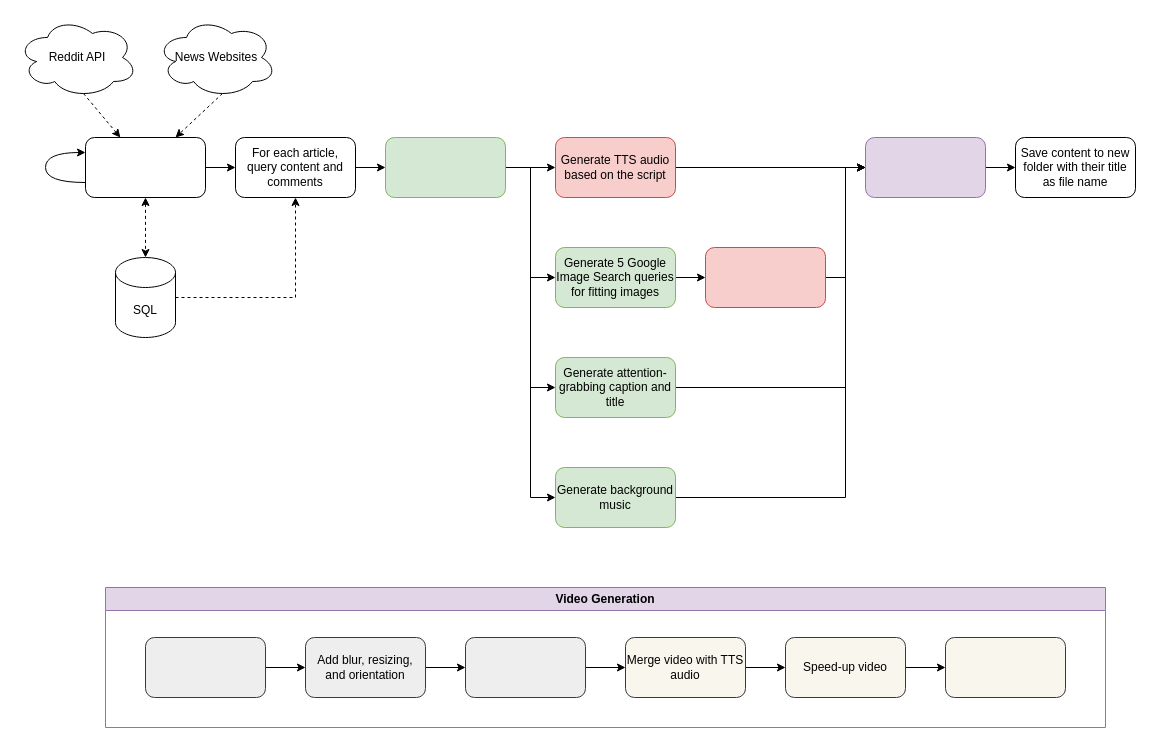
This 1153x745 diagram has some shape labels left out. Here are the shapes that lost their labels. From the top down, the centre of each, then its label:
At point (145, 167): "Scrape Articles and Comments from r/electricvehicles".
At point (445, 167): "Generate transcript for short buzz video".
At point (925, 167): "Generate a short animated video with subtitles".
At point (765, 277): "Query and download 5 images from Google".
At point (205, 667): "Create slideshow of images".
At point (525, 667): "Add transitions".
At point (1005, 667): "Merge video with background music with reduced volume".
